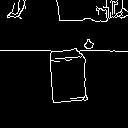cube: (43, 42, 93, 105)
